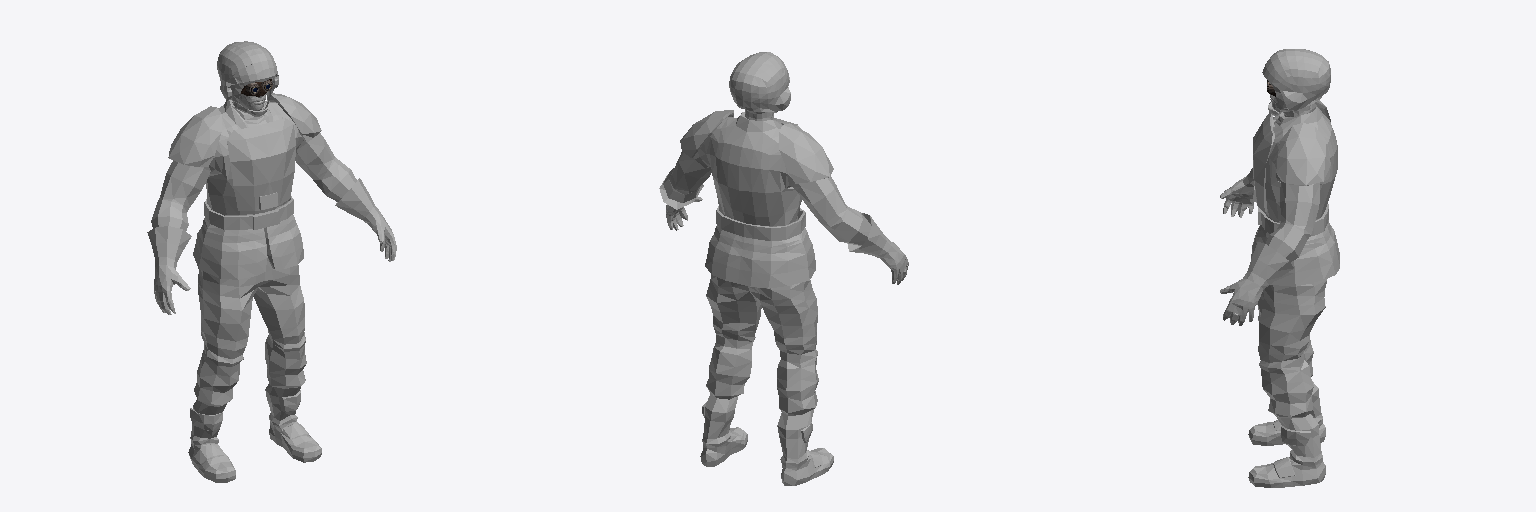
3 renders of one model, left to right at view 1: azimuth 30°, elevation 25°; view 2: azimuth 150°, elevation 25°; view 3: azimuth 270°, elevation 25°, orthographic.
Parts seen in each view (by area): view 1: 7.5.203.0; view 2: 7.5.203.0; view 3: 7.5.203.0.
Boxes of the visible parts, x1,y1,x2,y2 form: 7.5.203.0: [147, 41, 396, 482]; 7.5.203.0: [659, 52, 908, 485]; 7.5.203.0: [1220, 49, 1339, 487].
Size of the model in its own units: 1.25 by 2.1 by 0.5587.
6 materials, 1 textured.